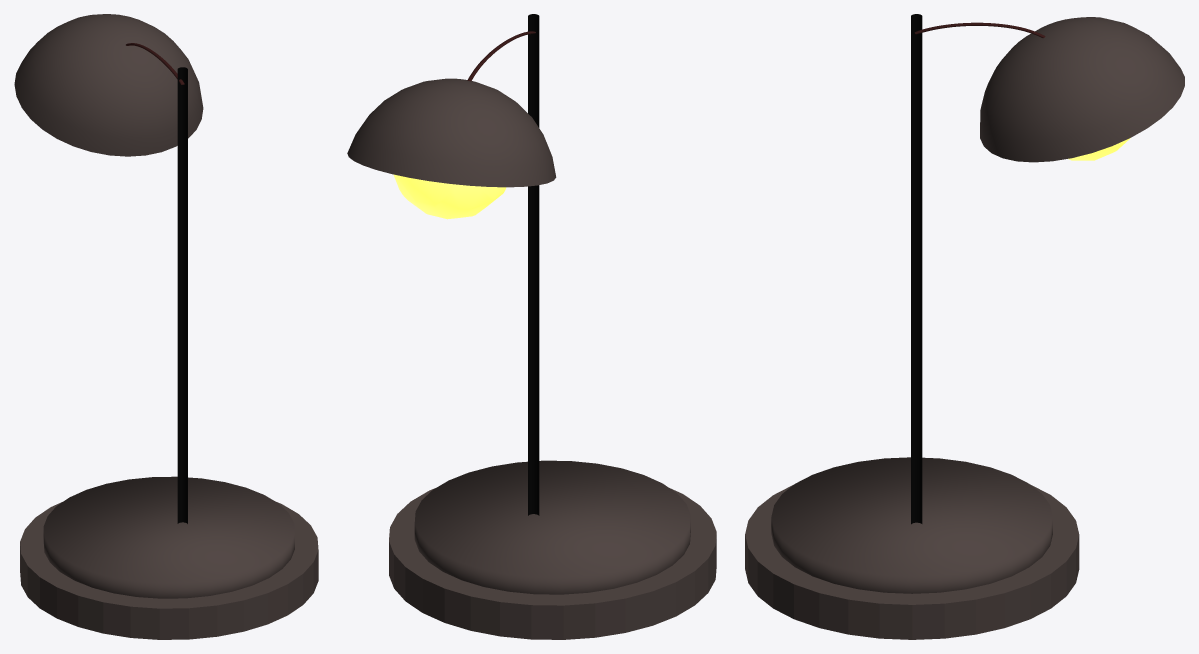
File: coffee-interaction-latest.glb
The picture shows the model from 3 angles, left to right: view 1: azimuth 30°, elevation 25°; view 2: azimuth 150°, elevation 25°; view 3: azimuth 270°, elevation 25°; orthographic projection. The views are drawn at different scales.
Parts seen in each view (by area): view 1: Beanbag Area Lamp; view 2: Beanbag Area Lamp; view 3: Beanbag Area Lamp.
Part boxes in pixels (x1=…): Beanbag Area Lamp: x1=14, y1=14, x2=318, y2=639; Beanbag Area Lamp: x1=347, y1=14, x2=716, y2=639; Beanbag Area Lamp: x1=745, y1=14, x2=1184, y2=639.
Size of the model in its own units: 0.6098 by 1.13 by 0.8025.
